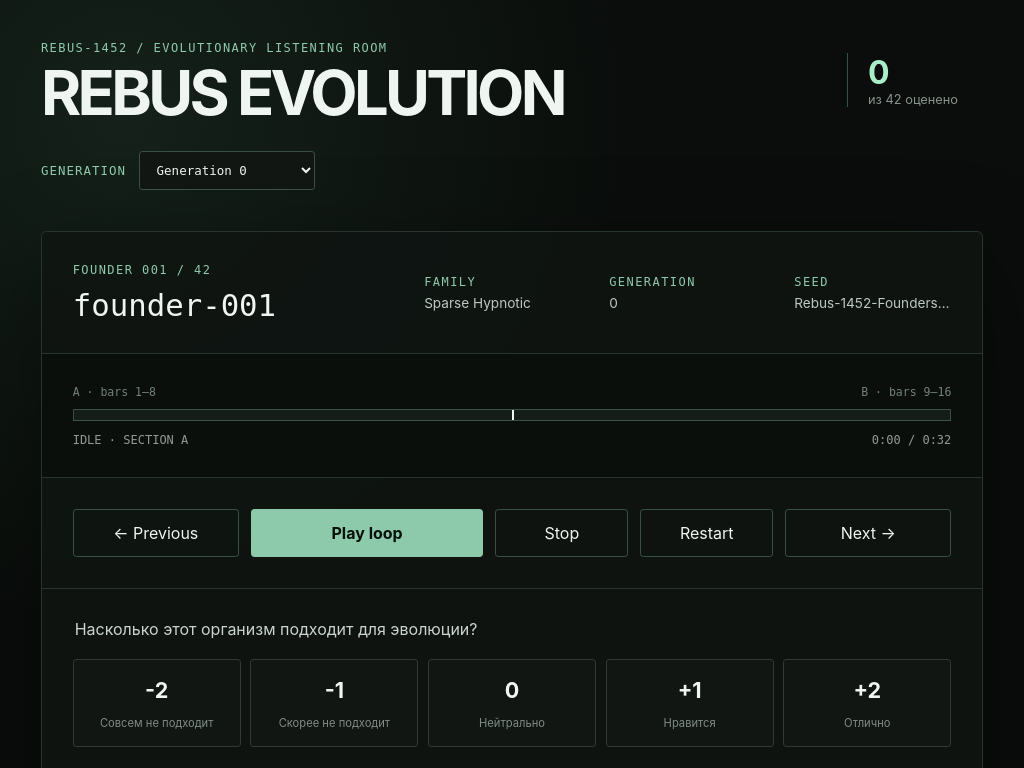
Test: App › keeps playing across Previous and wraps to the last organism
Click the button "Play loop" at (367,533), box left=251, top=509, right=483, bottom=557
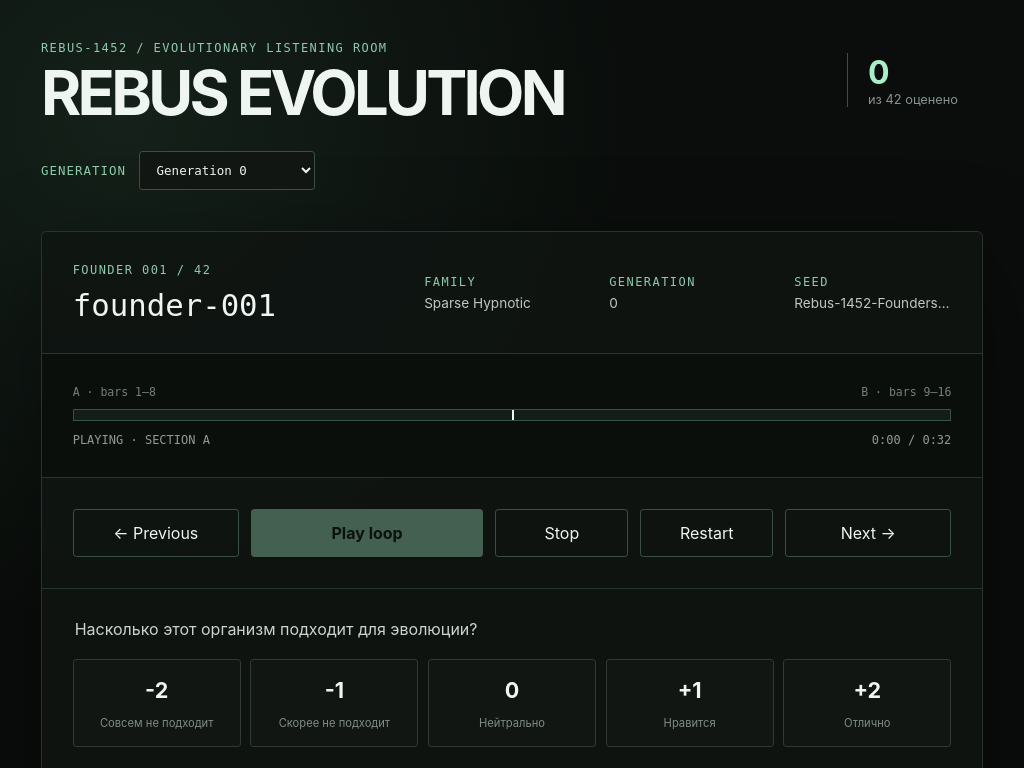
expect the message shows "playing": met, box left=73, top=433, right=123, bottom=447
Click the button "← Previous" at (156,533), box left=73, top=509, right=239, bottom=557
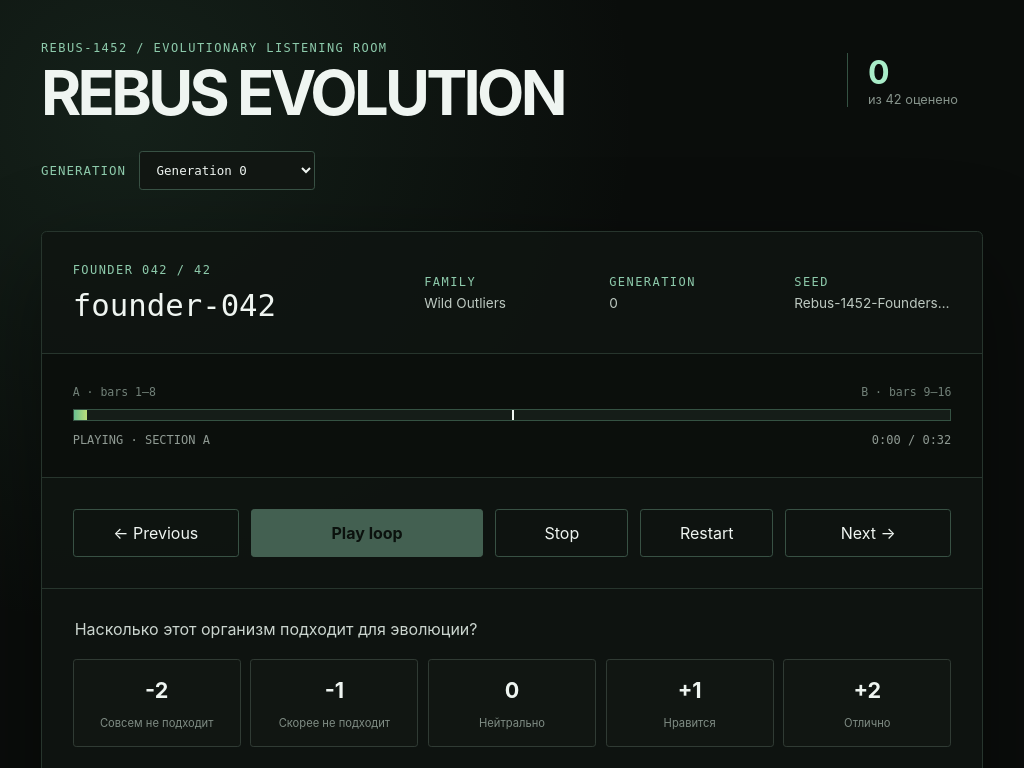
expect the message shows "playing": met, box left=73, top=433, right=123, bottom=447
expect the heading "founder-042" is shown: met, box left=73, top=287, right=276, bottom=323
